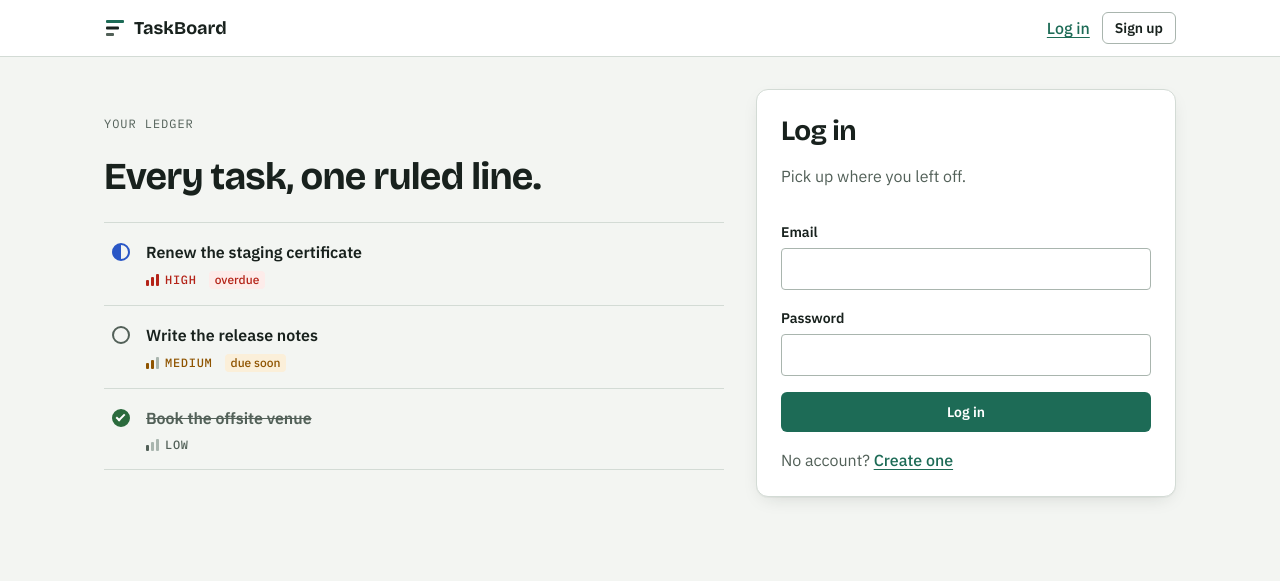
Scenario: App › reports a network failure on login
Type "ada@example.com" into the field labelled "Email".
click(966, 269); type("ada@example.com")  # box [781, 248, 1151, 290]
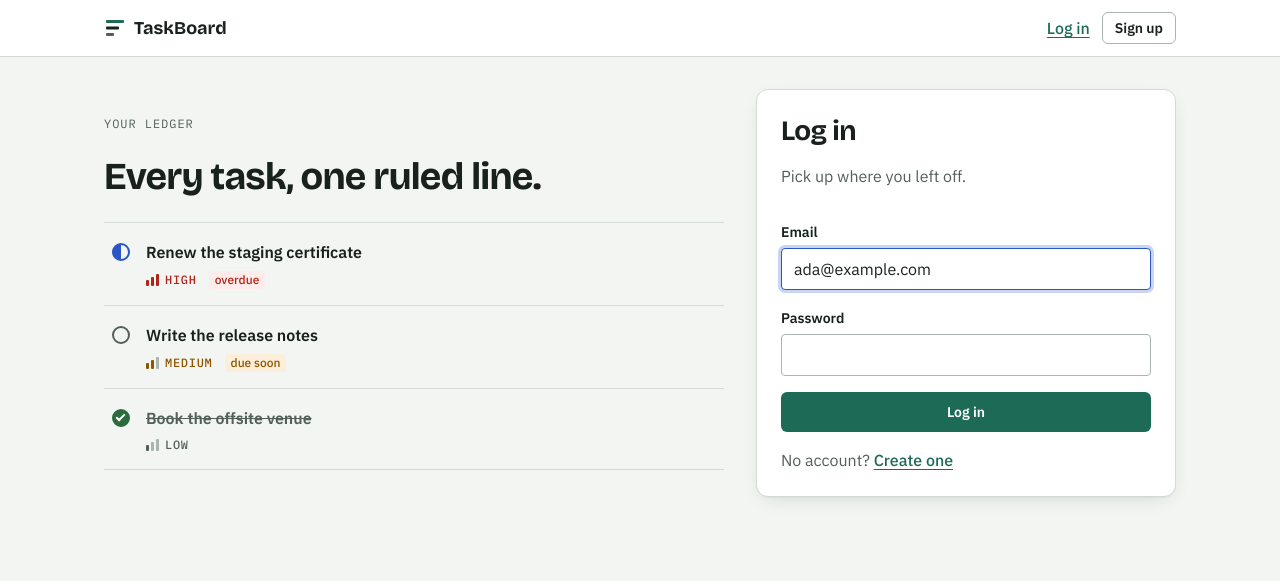
Type "whatever1" into the password field labelled "Password".
click(966, 355); type("whatever1")  # box [781, 334, 1151, 376]
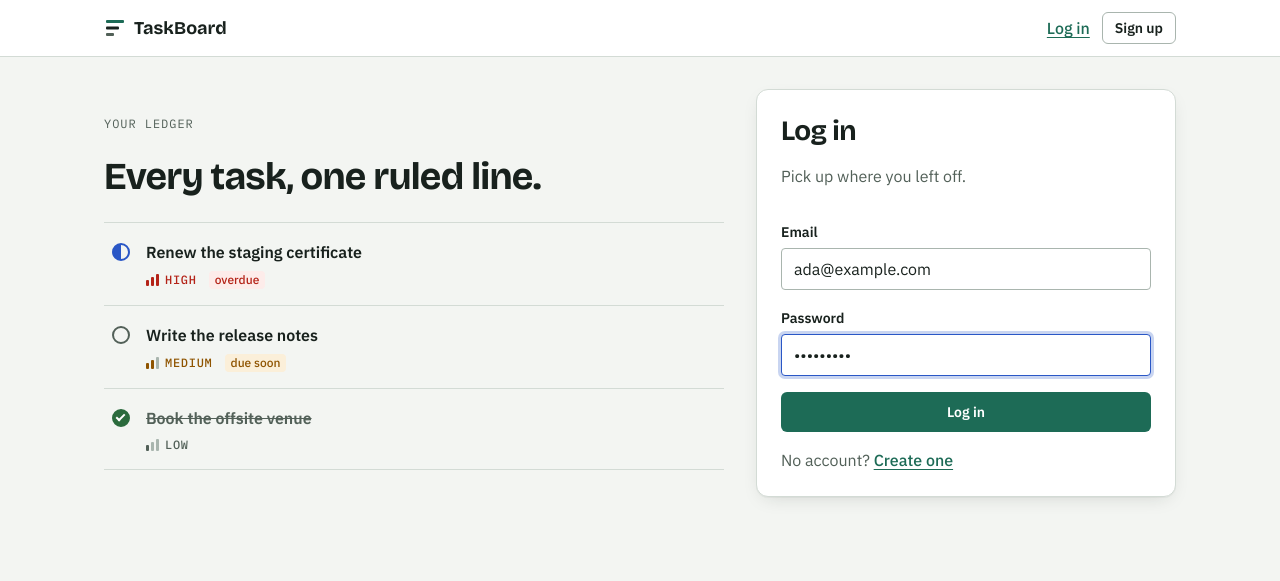
Click the button "Log in".
click(966, 412)  # box [781, 392, 1151, 432]
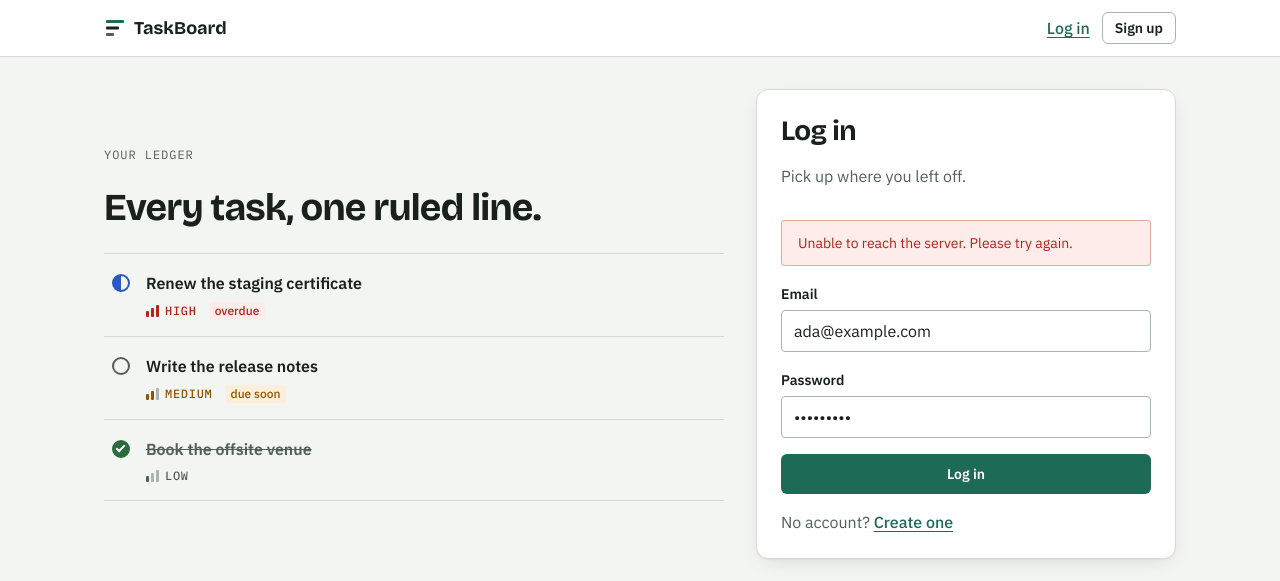
expect the message shows "Unable to reach the server": met, box [798, 234, 1073, 252]
